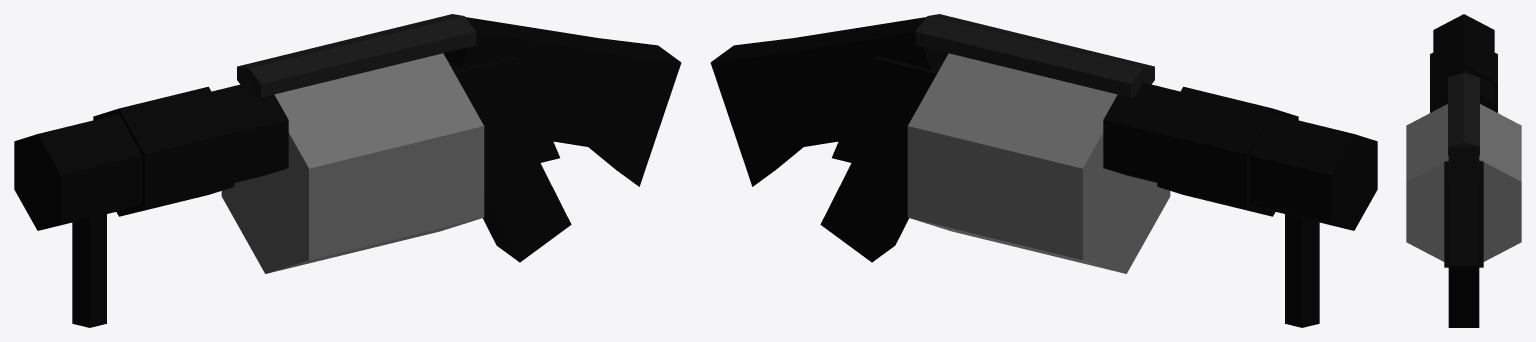
The model's file is GrenadeLauncher.fbx.
3 renders of one model, left to right at view 1: azimuth 30°, elevation 25°; view 2: azimuth 150°, elevation 25°; view 3: azimuth 270°, elevation 25°, orthographic. The views are drawn at different scales.
Parts seen in each view (by area): view 1: GrenadeLauncher; view 2: GrenadeLauncher; view 3: GrenadeLauncher.
Part boxes in pixels (x1=…): GrenadeLauncher: x1=14, y1=14, x2=681, y2=327; GrenadeLauncher: x1=710, y1=14, x2=1377, y2=327; GrenadeLauncher: x1=1406, y1=14, x2=1521, y2=327.
Size of the model in its own units: 1.01 by 0.3801 by 0.2425.
